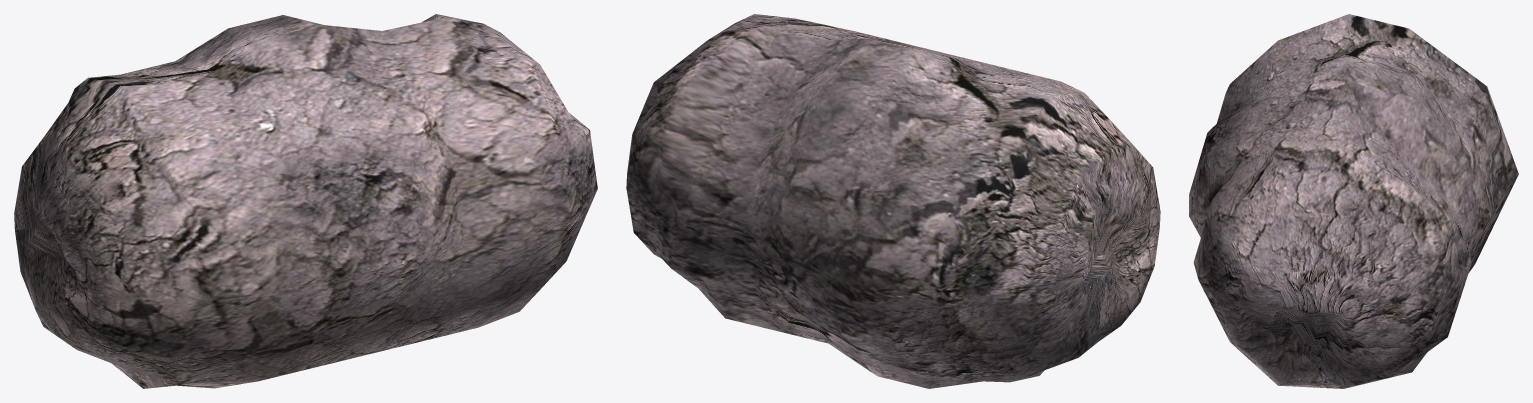
File: Asteroid04.DAE
3 renders of one model, left to right at view 1: azimuth 30°, elevation 25°; view 2: azimuth 150°, elevation 25°; view 3: azimuth 270°, elevation 25°, orthographic. The views are drawn at different scales.
Parts seen in each view (by area): view 1: gris_grande; view 2: gris_grande; view 3: gris_grande.
Boxes of the visible parts, x1,y1,x2,y2 form: gris_grande: (14, 14, 597, 388); gris_grande: (626, 14, 1160, 388); gris_grande: (1189, 14, 1518, 388).
Size of the model in its own units: 5.98 by 4.06 by 3.77.
Materials: 1 (1 with a texture image).
